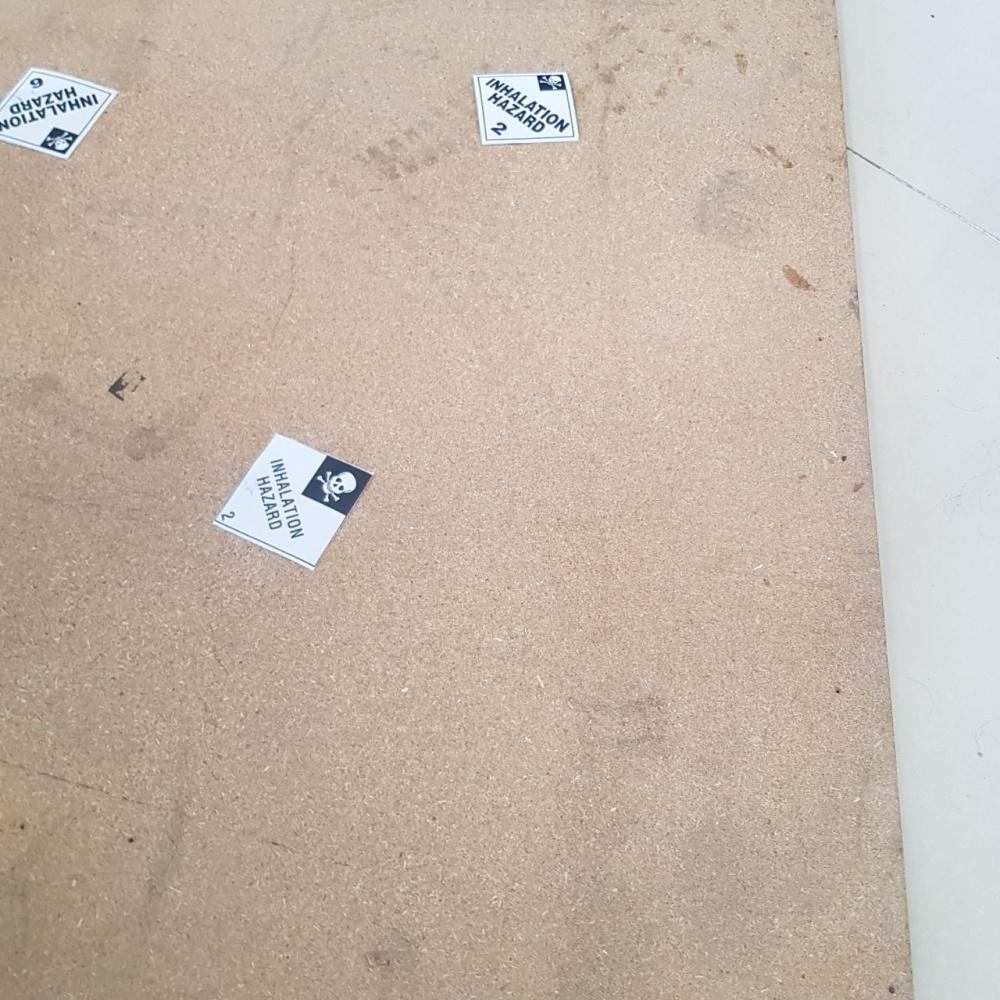poison: (208, 432, 376, 573), (4, 67, 122, 158), (471, 71, 581, 147)
